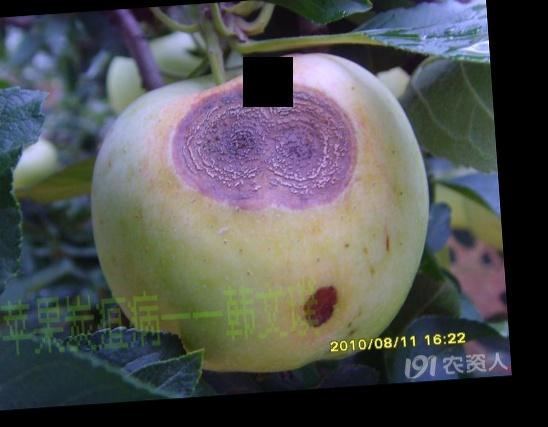rotten apple: (90, 53, 430, 378), (301, 285, 345, 331)
